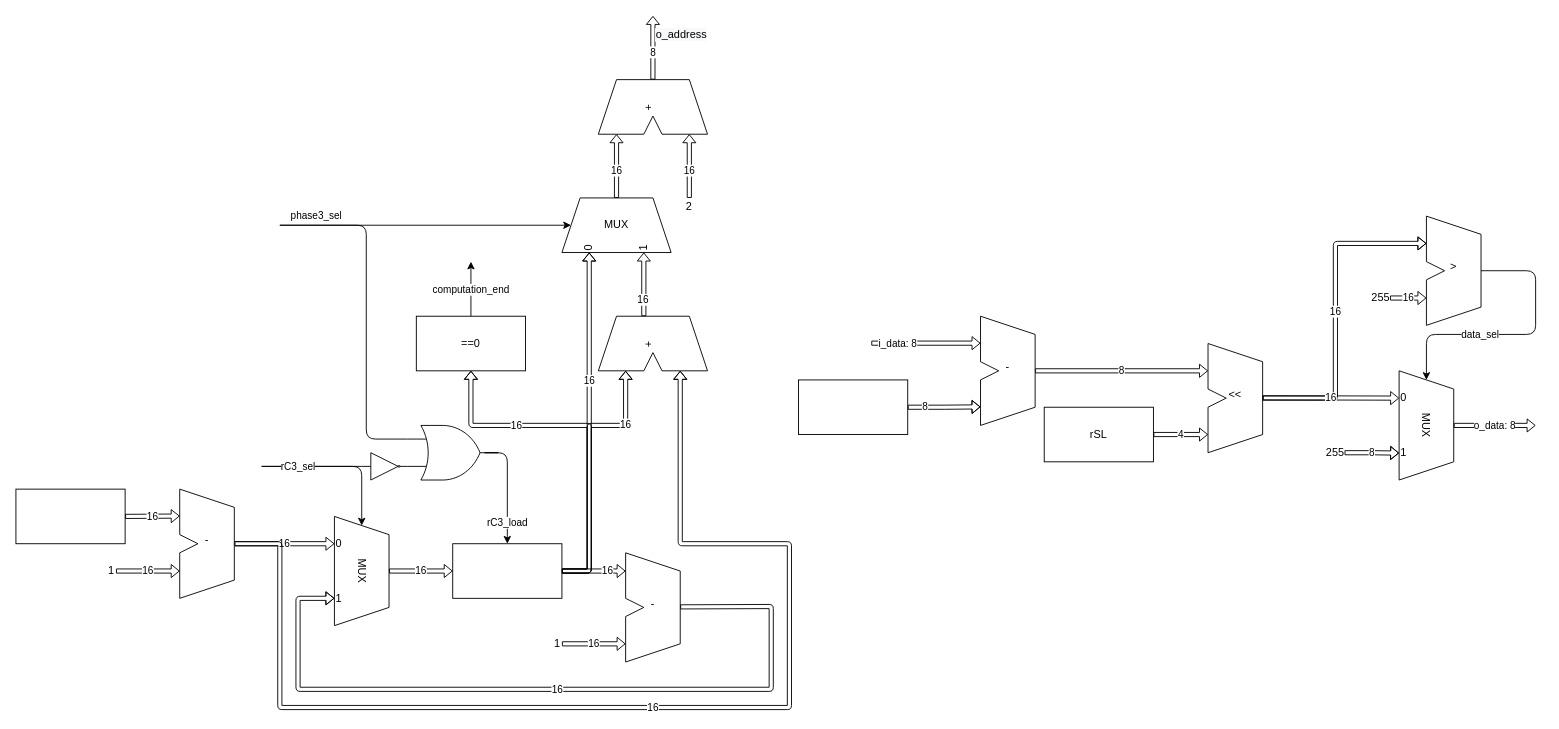
This 1559x729 diagram has some shape labels left out. The centre of each missing label's shape, as x and y in pixels:
"rC3" goes at point 507,570.
"rMin" goes at point 853,407.
"rN" goes at point 70,516.
